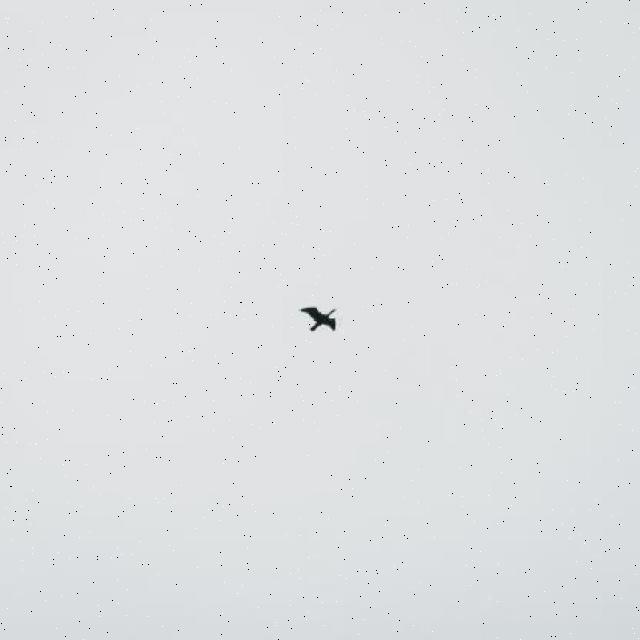bird: (298, 306, 340, 334)
